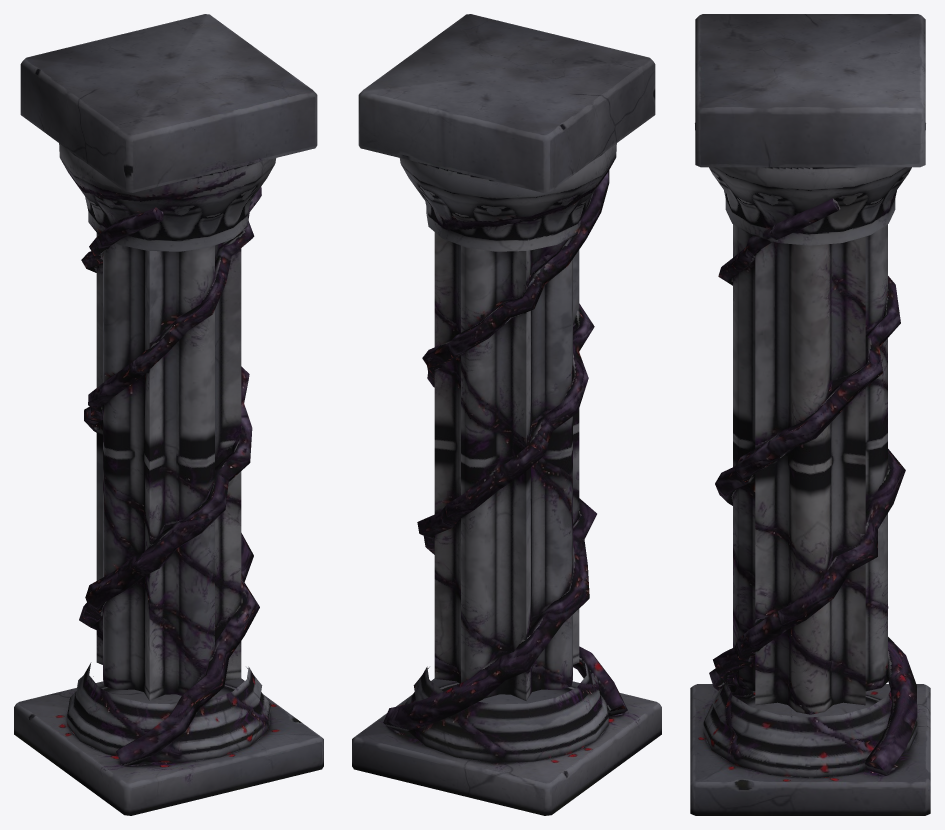
File: thorn_pillar.glb
3 renders of one model, left to right at view 1: azimuth 30°, elevation 25°; view 2: azimuth 150°, elevation 25°; view 3: azimuth 270°, elevation 25°, orthographic. The views are drawn at different scales.
Visible parts, largest first — view 1: thorn_pillar; view 2: thorn_pillar; view 3: thorn_pillar.
Part boxes in pixels (<box>): thorn_pillar: <box>14,14,323,815</box>; thorn_pillar: <box>352,14,661,815</box>; thorn_pillar: <box>690,14,930,815</box>.
Bounding box in the file's own units: 1.36 × 4.4 × 1.36.
1 material, 1 textured.
